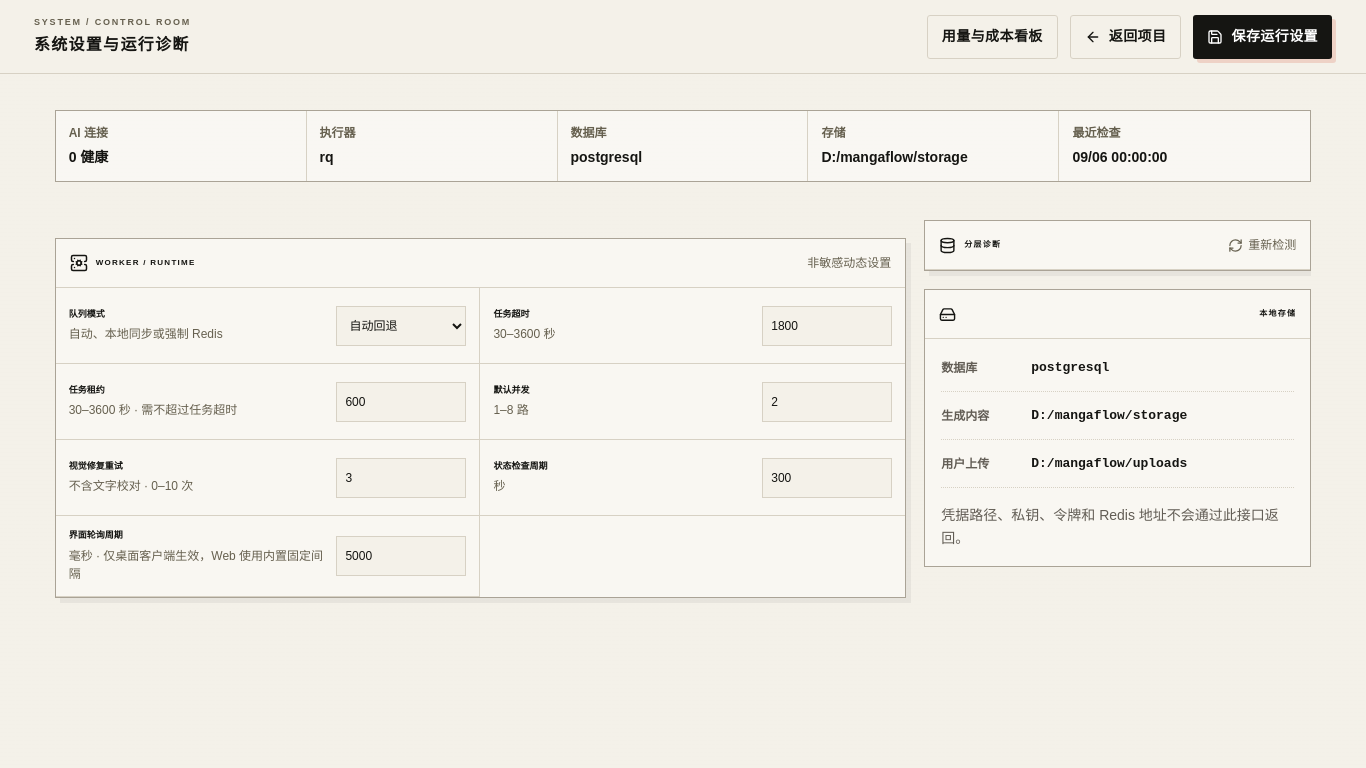
Scenario: SystemSettingsPage 任务租约设置 › 保存时把 job_lease_seconds 随载荷提交回后端
The width and height of the screenshot is (1366, 768).
Step 1. Replace the text in the number field labelled "任务租约 30–3600 秒 · 需不超过任务超时" with "90" → (401, 402), box [336, 382, 466, 422]
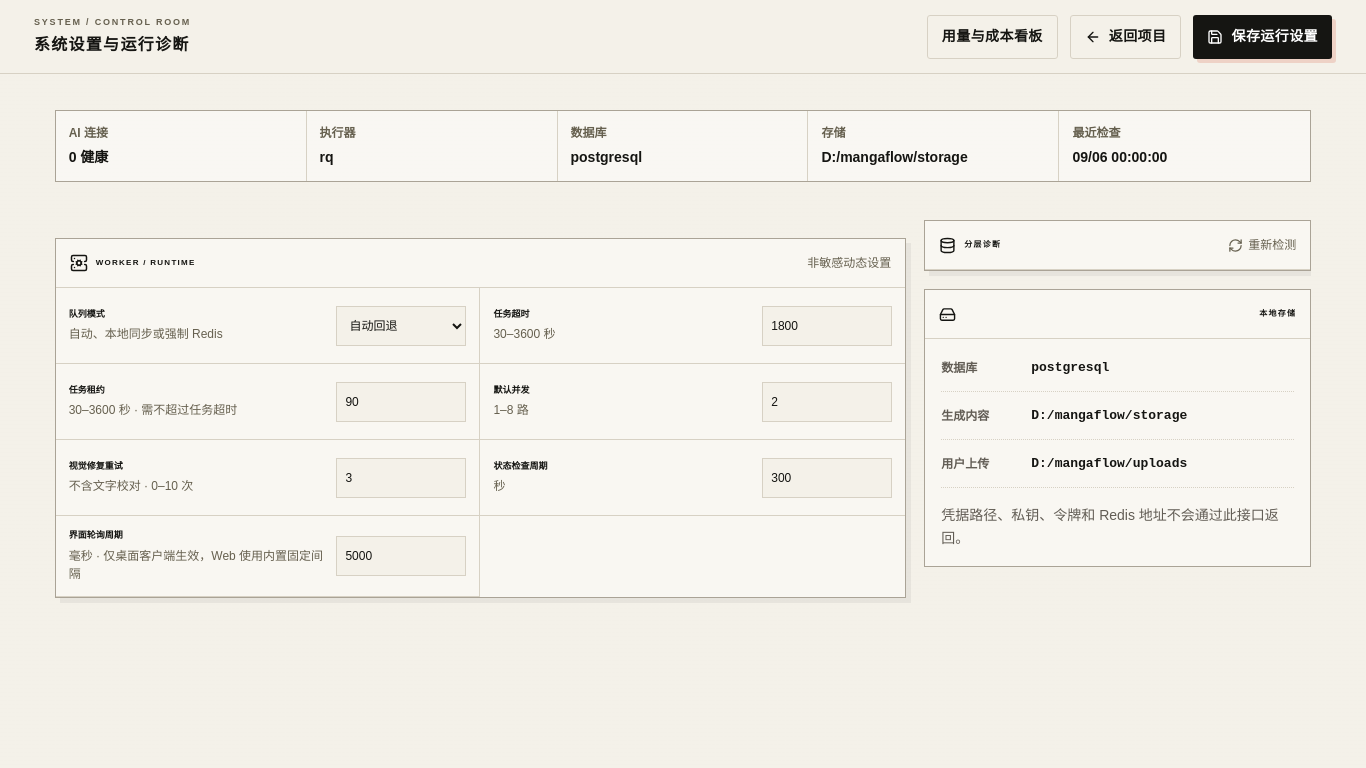
Step 2. Click the button "保存运行设置" → (1263, 36), box [1194, 14, 1332, 58]
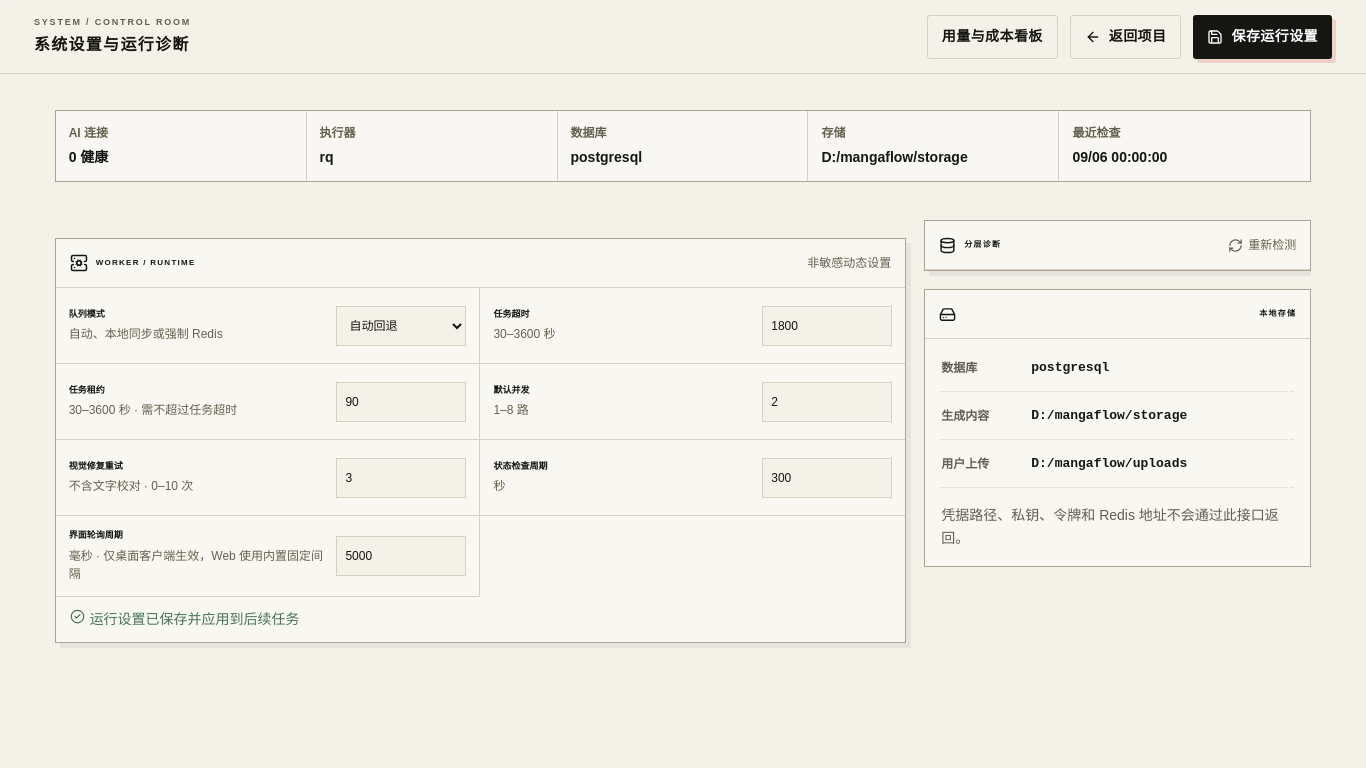
Result: the text "运行设置已保存并应用到后续任务" is shown at [70, 608, 300, 626]
